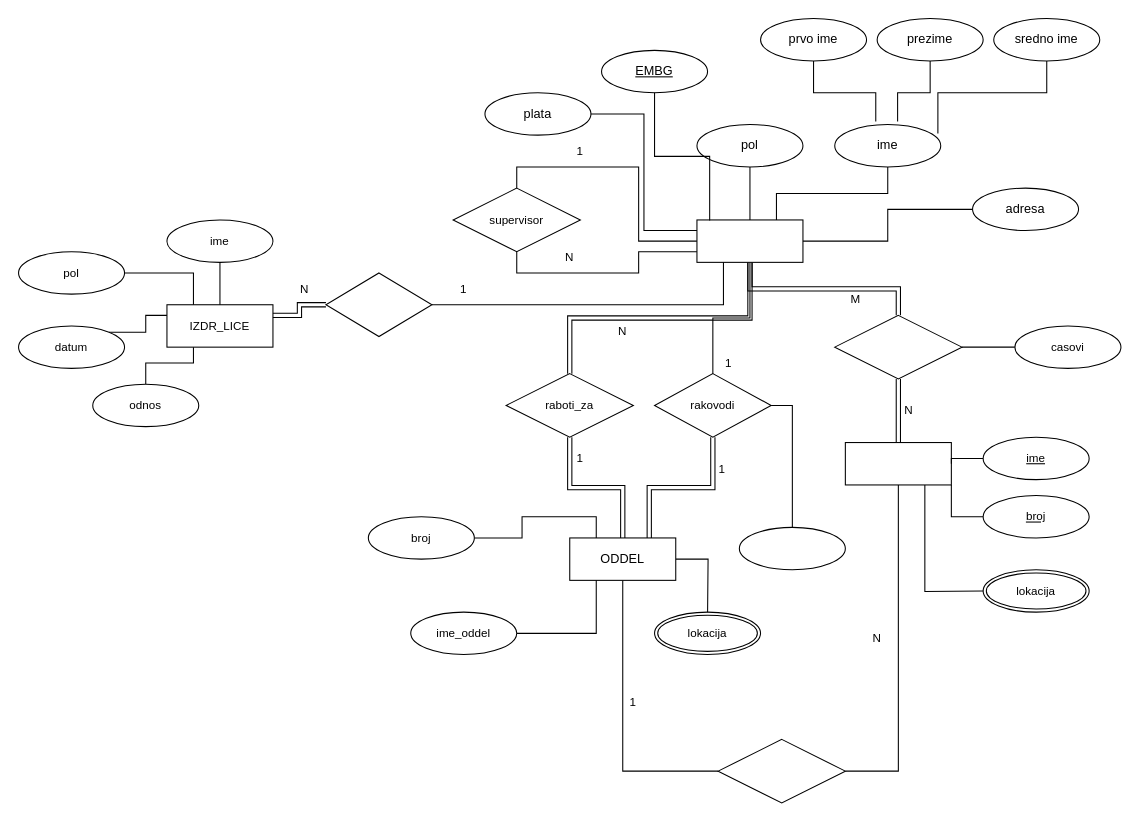
This 1139x821 diagram has some shape labels left out. The shapes that lost their labels are listed below. From the top down, each one's box as (x1, y1, x2, y2) in pixels, then its label:
(696, 219, 803, 262): VRABOTEN
(325, 272, 432, 337): ima
(834, 314, 962, 379): raboti_na
(844, 441, 951, 485): PROEKT
(738, 526, 845, 570): poceten_datum
(717, 738, 845, 803): kontrolira
